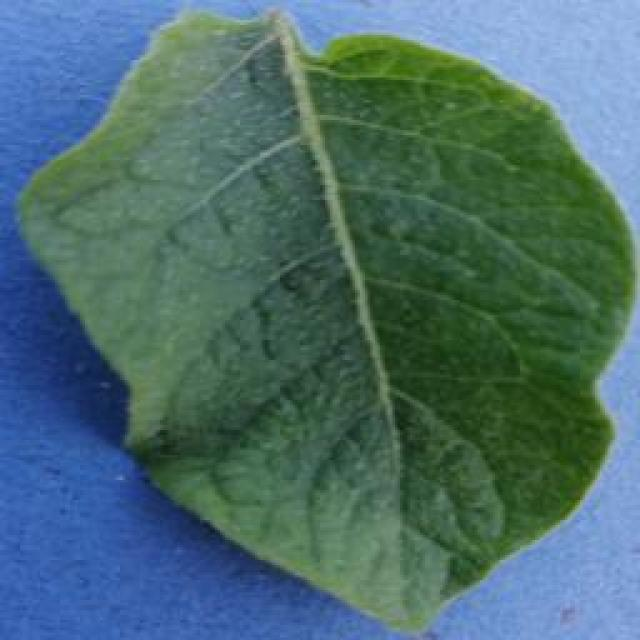Potato_Healthy: (17, 8, 626, 633)
